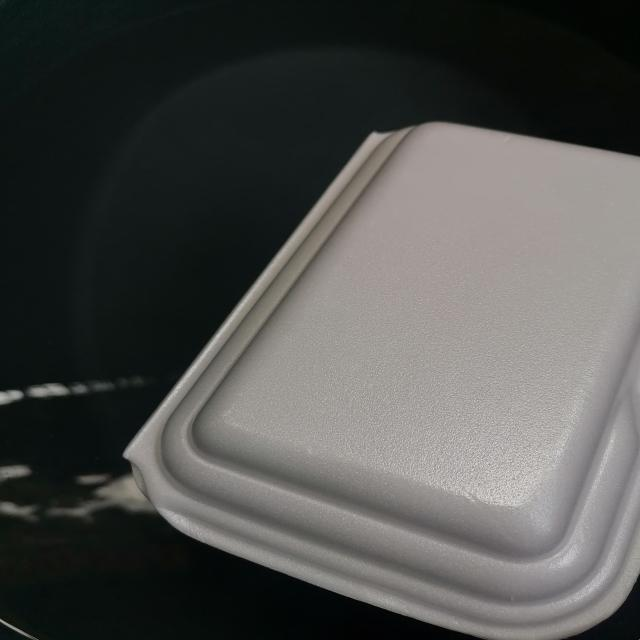Styrofoam Container: (145, 123, 640, 640)
